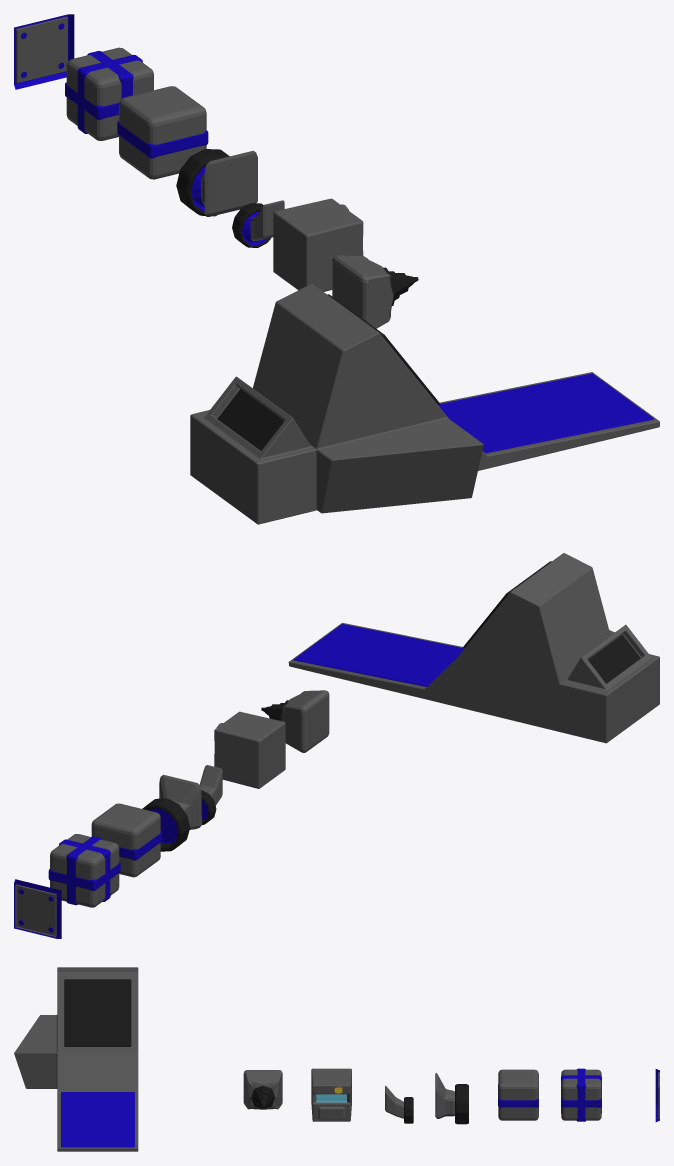
The model's file is GSO (2).glb.
3 renders of one model, top to bottom at view 1: azimuth 30°, elevation 25°; view 2: azimuth 150°, elevation 25°; view 3: azimuth 270°, elevation 25°, orthographic. The views are drawn at different scales.
Visible parts, largest first — view 1: Cube, Cube1, Cab, Cube2, Armor, DrillBody, WheelBodyBig, WheelBig, WheelSmall, WheelBodySmall; view 2: Cube, Cab, Cube2, Cube1, DrillBody, Armor, WheelBig, WheelBodyBig, WheelBodySmall; view 3: Cube, Cab, Cube2, Cube1, DrillBody, WheelBodyBig, WheelBig, Drill, WheelBodySmall.
Boxes of the visible parts, <box> form: Cube: <box>190,284,659,524</box>; Cube1: <box>117,86,208,179</box>; Cab: <box>273,198,363,291</box>; Cube2: <box>65,47,153,140</box>; Armor: <box>14,14,74,89</box>; DrillBody: <box>332,255,393,328</box>; WheelBodyBig: <box>201,150,257,216</box>; WheelBig: <box>176,149,229,216</box>; WheelSmall: <box>232,203,271,247</box>; WheelBodySmall: <box>250,200,284,241</box>; Cube: <box>288,553,659,743</box>; Cab: <box>214,711,285,788</box>; Cube2: <box>48,834,120,907</box>; Cube1: <box>91,803,162,877</box>; DrillBody: <box>281,690,329,752</box>; Armor: <box>14,879,61,938</box>; WheelBig: <box>142,798,190,851</box>; WheelBodyBig: <box>159,774,201,829</box>; WheelBodySmall: <box>199,765,222,805</box>; Cube: <box>14,967,138,1151</box>; Cab: <box>311,1068,351,1121</box>; Cube2: <box>561,1068,601,1121</box>; Cube1: <box>498,1069,538,1120</box>; DrillBody: <box>243,1070,282,1109</box>; WheelBodyBig: <box>435,1073,454,1118</box>; WheelBig: <box>455,1084,468,1124</box>; Drill: <box>251,1085,274,1108</box>; WheelBodySmall: <box>385,1085,403,1118</box>.
Bounding box in the file's own units: 6.87 × 2.76 × 15.95.
